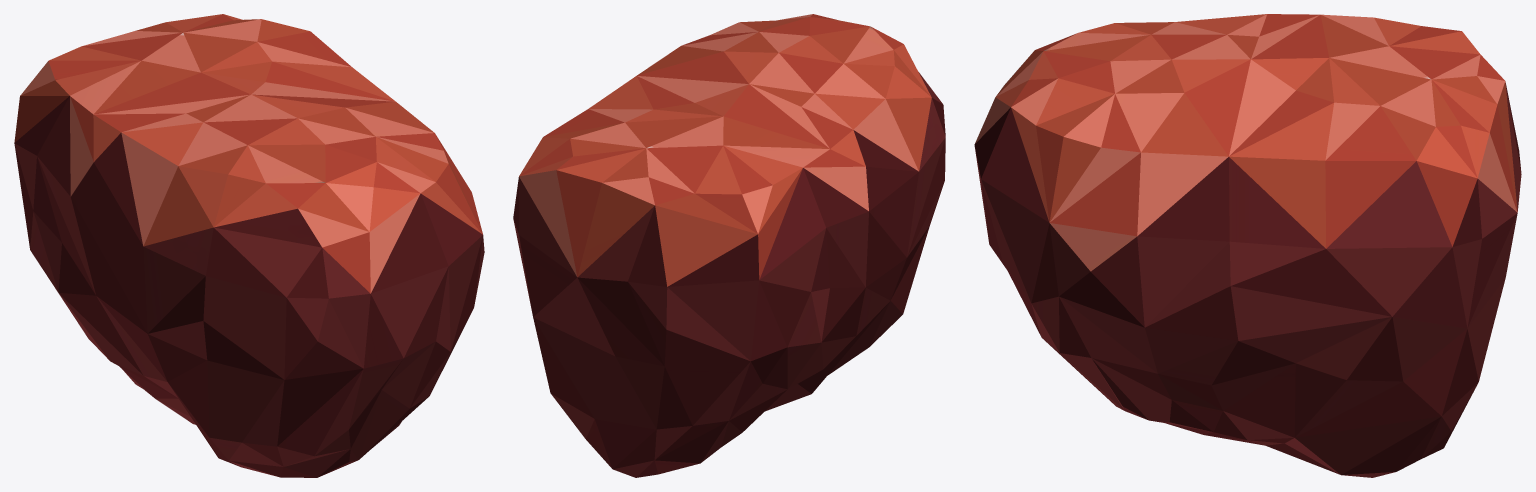
Rendered from Rec_S.fbx.
The picture shows the model from 3 angles, left to right: view 1: azimuth 30°, elevation 25°; view 2: azimuth 150°, elevation 25°; view 3: azimuth 270°, elevation 25°; orthographic projection. The views are drawn at different scales.
Parts seen in each view (by area): view 1: Recangle_Island_Low; view 2: Recangle_Island_Low; view 3: Recangle_Island_Low.
Boxes of the visible parts, x1,y1,x2,y2 form: Recangle_Island_Low: (14,14,484,477); Recangle_Island_Low: (513,14,945,477); Recangle_Island_Low: (974,14,1521,477).
Size of the model in its own units: 926 by 1046 by 1324.
